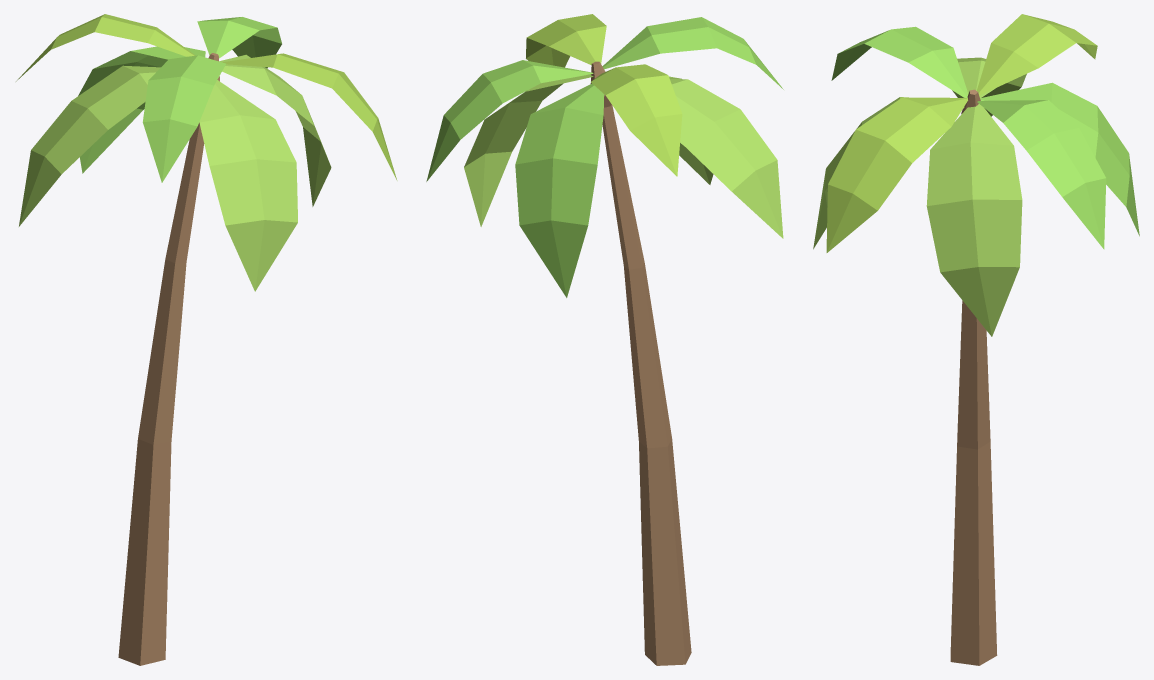
File: Palm_Tree_OneSided_m_02.fbx
The picture shows the model from 3 angles, left to right: view 1: azimuth 30°, elevation 25°; view 2: azimuth 150°, elevation 25°; view 3: azimuth 270°, elevation 25°; orthographic projection. The views are drawn at different scales.
Visible parts, largest first — view 1: Palm_Tree_OneSided_m_02; view 2: Palm_Tree_OneSided_m_02; view 3: Palm_Tree_OneSided_m_02.
Part boxes in pixels (<box>): Palm_Tree_OneSided_m_02: <box>16,14,397,665</box>; Palm_Tree_OneSided_m_02: <box>426,14,783,665</box>; Palm_Tree_OneSided_m_02: <box>813,14,1139,665</box>.
Bounding box in the file's own units: 334 × 630 × 296.
